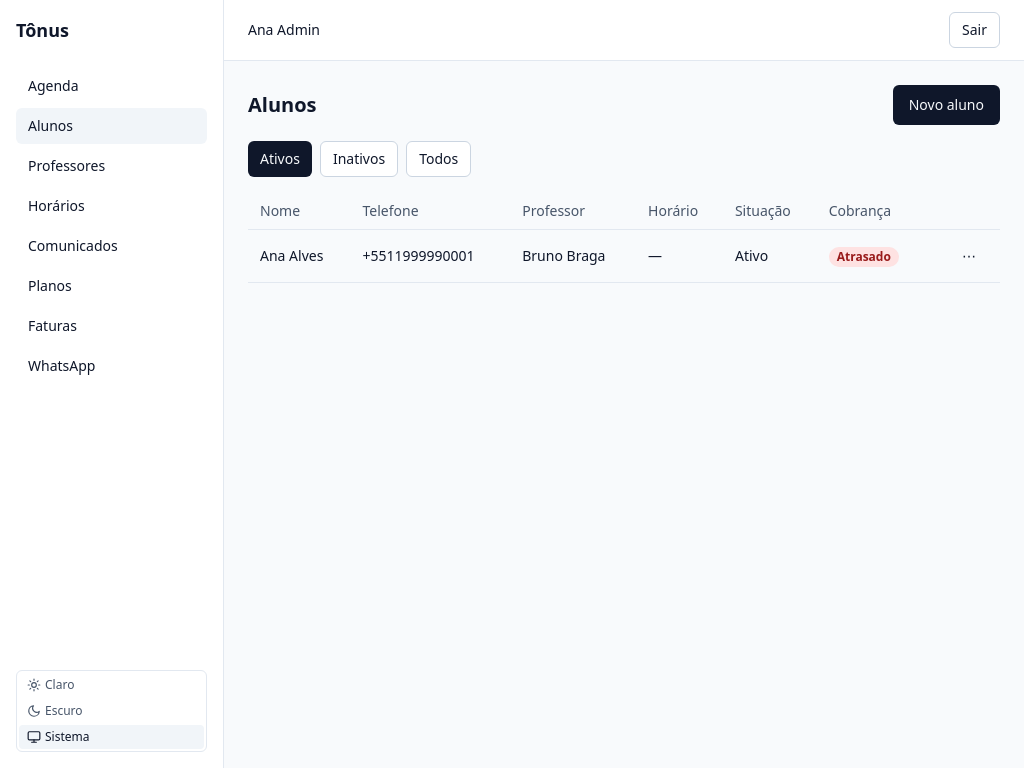
situação de cobrança › repergunta quem está atrasado depois de uma baixa em outra tela
This screenshot has width=1024, height=768.
Expected: the text "Atrasado" is shown, [829, 246, 899, 266]
Step 1. Click the link "Faturas" → (52,326), box [28, 316, 77, 335]
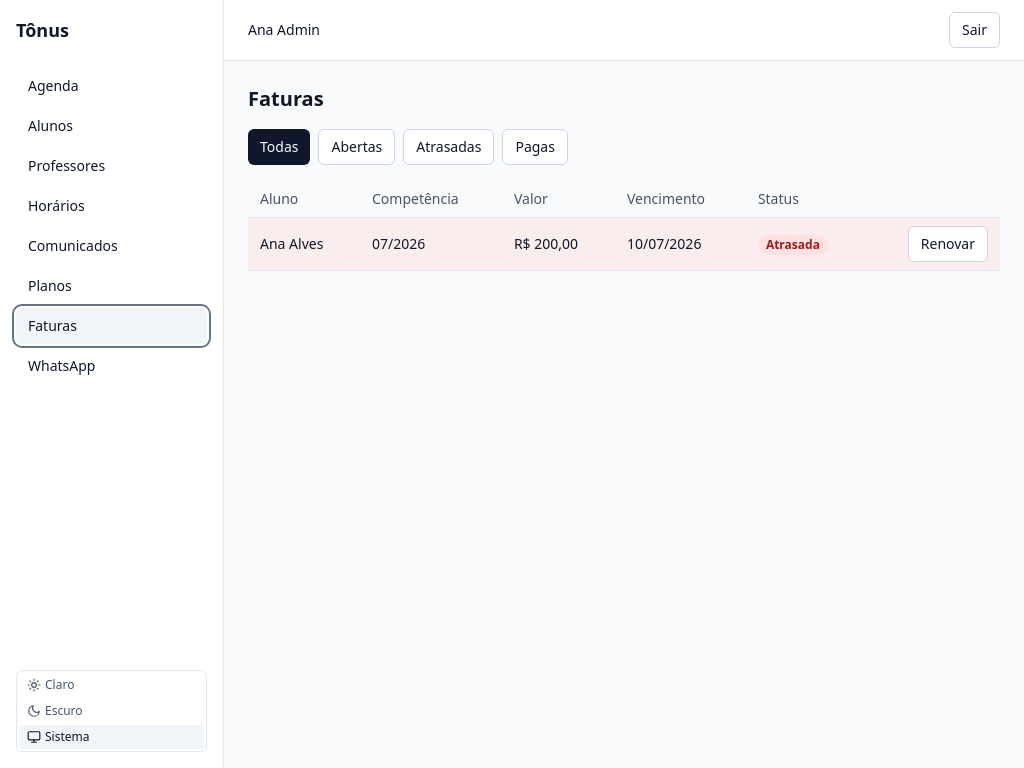
Step 2. Click the button with aria-label "Renovar a fatura de Ana Alves" → (948,244), box [908, 226, 988, 262]
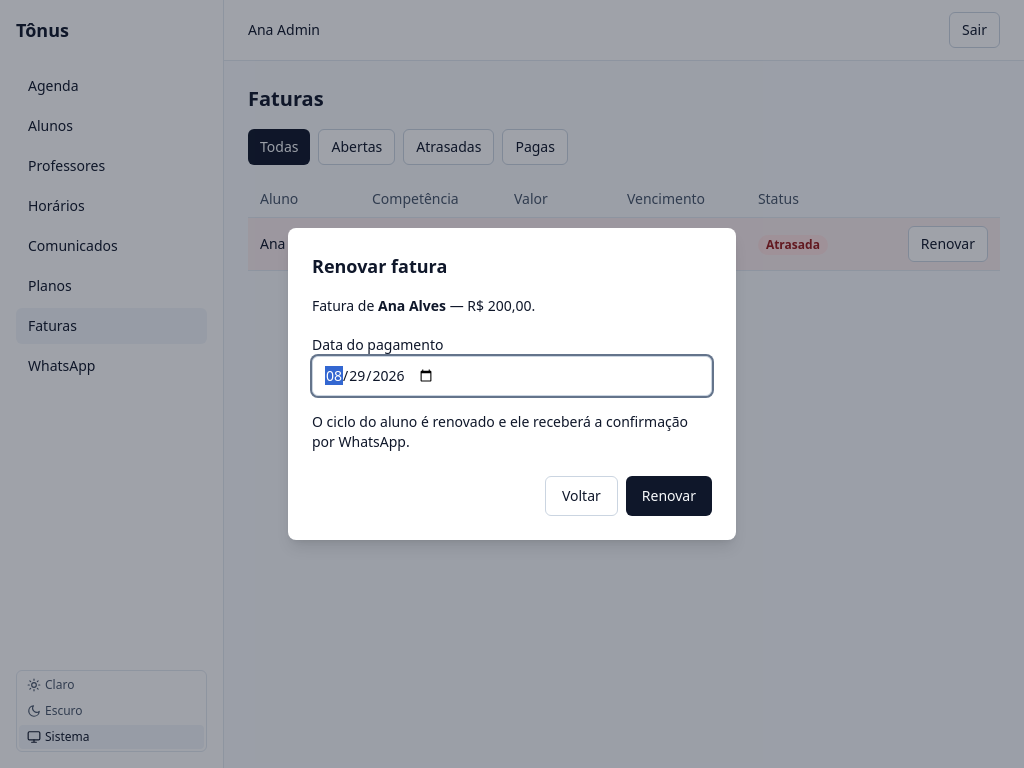
Step 3. Click the button "Renovar" → (669,496), box [626, 476, 712, 516]
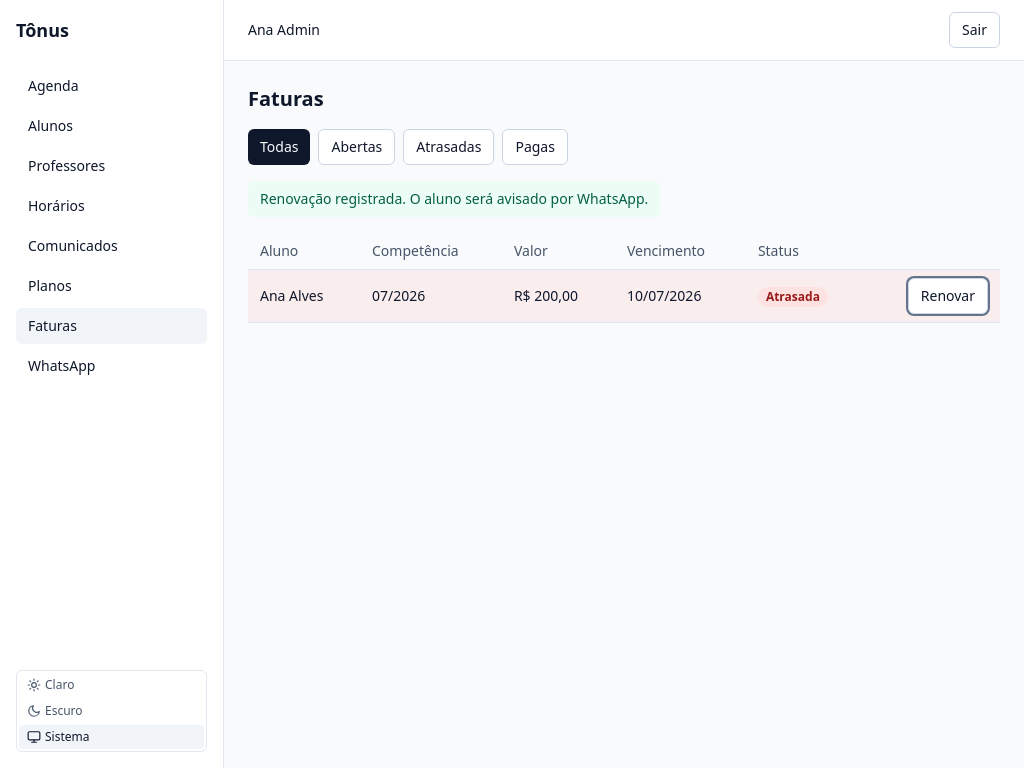
Expected: the dialog is gone
Step 4. Click the link "Alunos" → (50,126), box [28, 116, 73, 135]
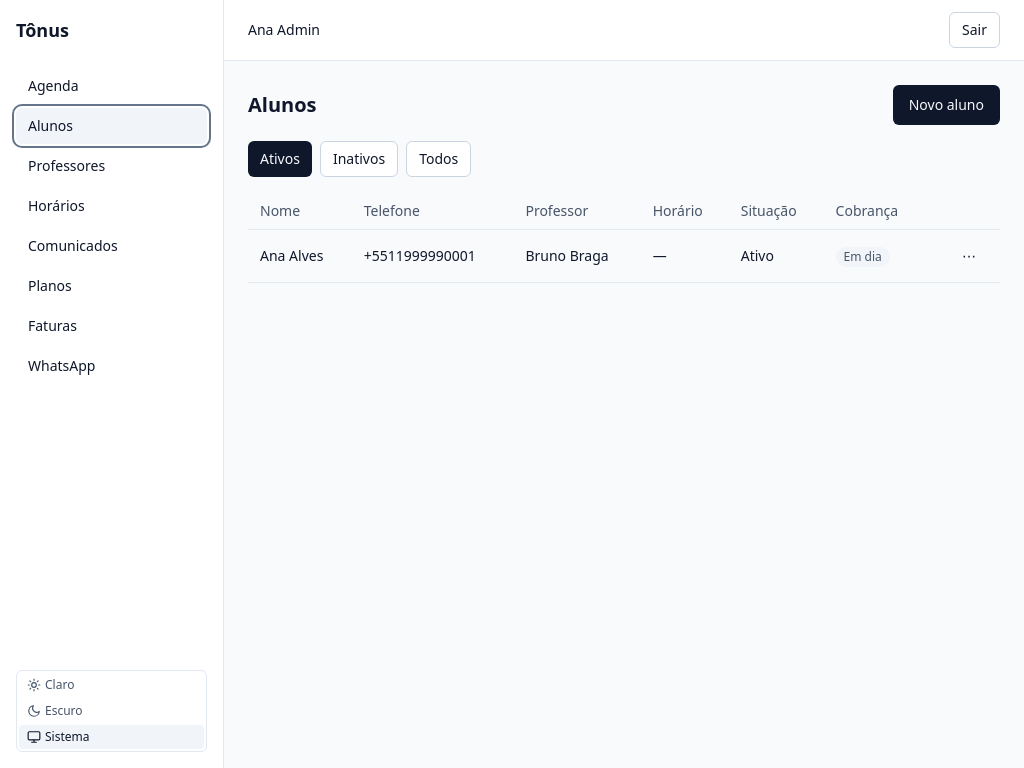
Expected: the text "Em dia" is shown, [836, 246, 890, 266]
